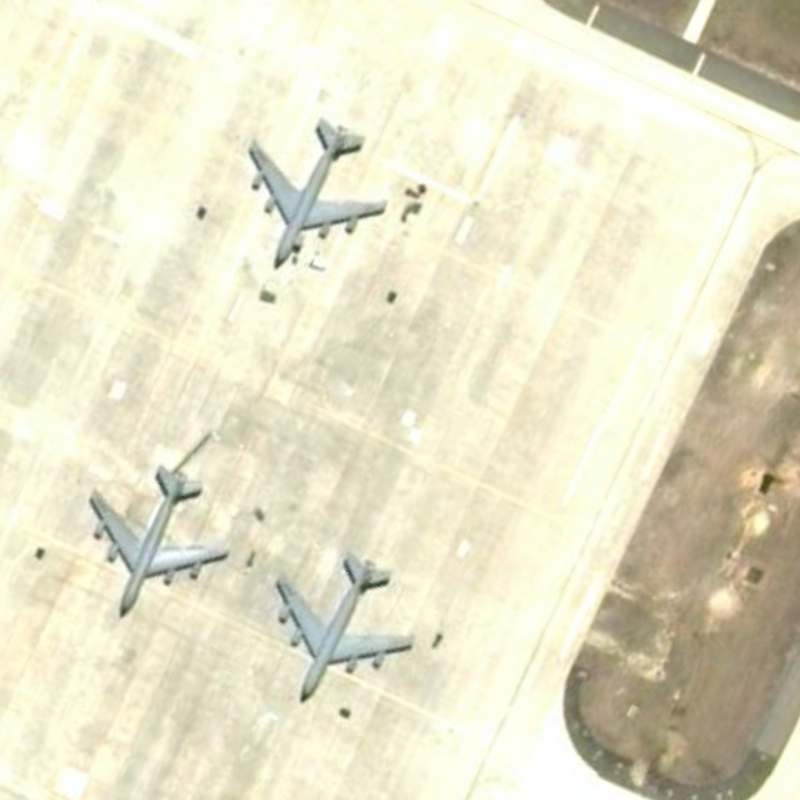A14: (237, 111, 391, 276), (86, 462, 234, 625), (267, 550, 417, 708)
